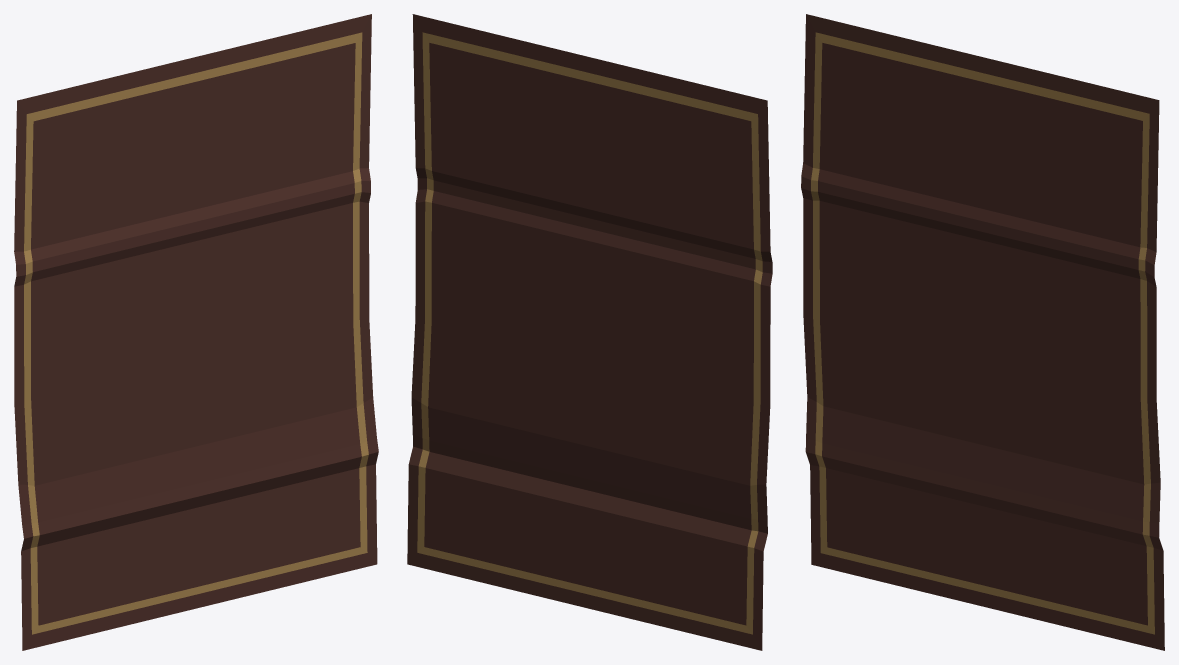
File: rug-rectangular.obj
The picture shows the model from 3 angles, left to right: view 1: azimuth 30°, elevation 25°; view 2: azimuth 150°, elevation 25°; view 3: azimuth 330°, elevation 25°; orthographic projection.
Parts seen in each view (by area): view 1: rug-rectangular; view 2: rug-rectangular; view 3: rug-rectangular.
Part boxes in pixels (left/top/right/bottom): rug-rectangular: left=14, top=14, right=378, bottom=650; rug-rectangular: left=407, top=14, right=772, bottom=650; rug-rectangular: left=801, top=14, right=1164, bottom=650.
Bounding box in the file's own units: 96 × 139 × 1.65.
